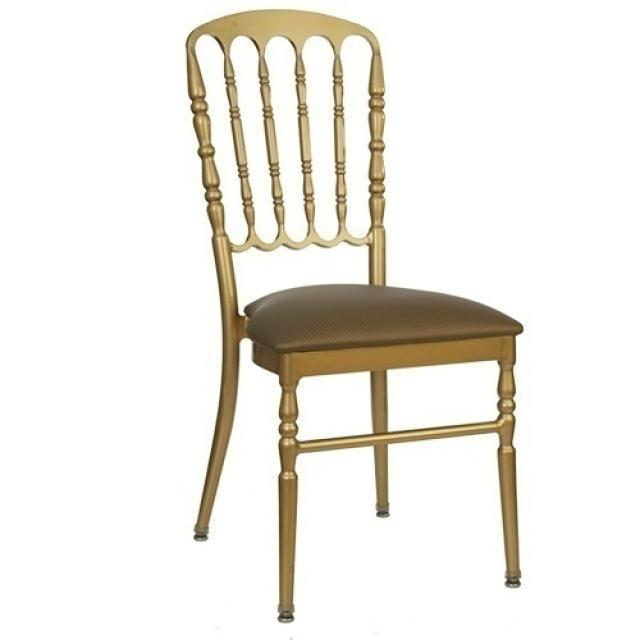chair: (168, 5, 528, 625)
